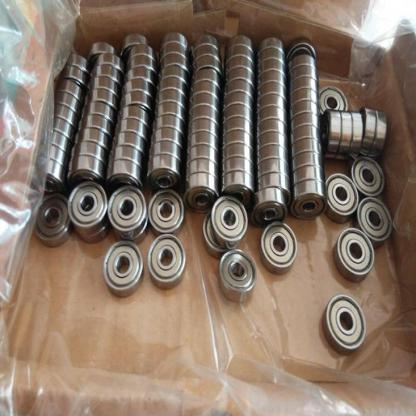FOD: (320, 292, 366, 358), (333, 224, 376, 284), (102, 238, 144, 298), (67, 177, 107, 238), (146, 231, 187, 289), (208, 192, 250, 248), (217, 247, 258, 302), (105, 184, 148, 236), (259, 219, 298, 275), (30, 192, 70, 246), (356, 195, 396, 248), (147, 185, 186, 235), (324, 172, 359, 225), (287, 178, 327, 222), (352, 152, 386, 201)
